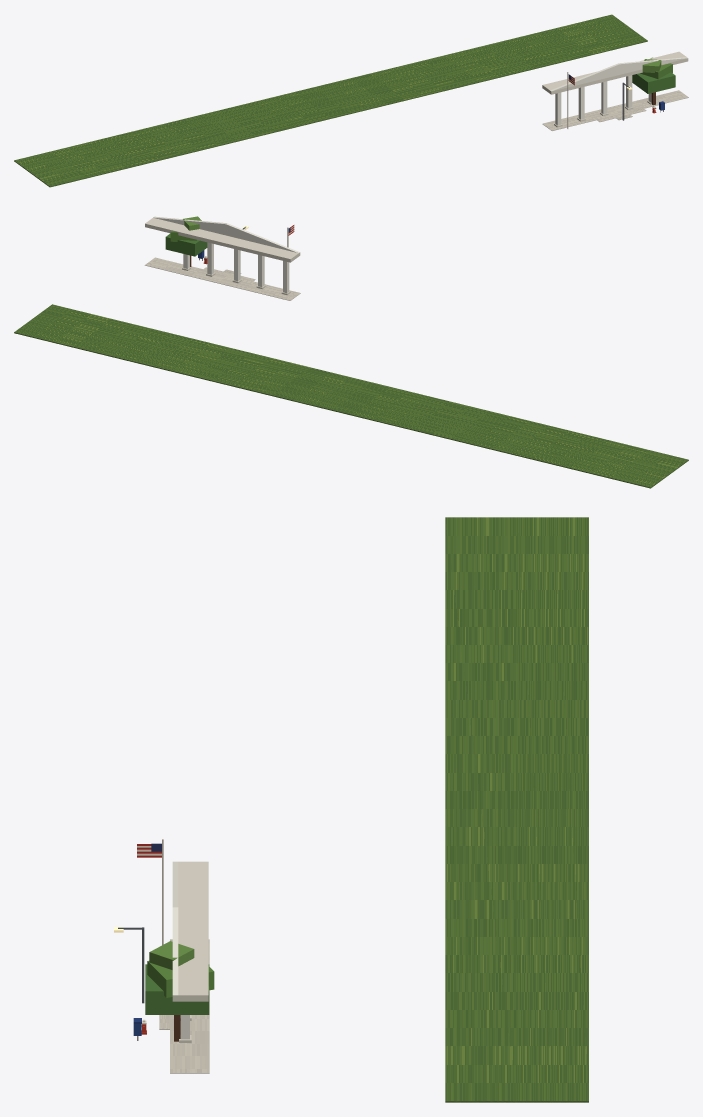
File: structure.glb
3 renders of one model, top to bottom at view 1: azimuth 30°, elevation 25°; view 2: azimuth 150°, elevation 25°; view 3: azimuth 270°, elevation 25°, orthographic. The views are drawn at different scales.
Parts seen in each view (by area): view 1: Box3, Box1, Box2, Box38, Structure, Box37, Box14; view 2: Box3, Box1, Box2, Box37, Box38, Structure, Box14; view 3: Box3, Box1, Box2, Box37, Box38, Box14, Structure.
Boxes of the visible parts, bbox=[...] form: Box3: bbox=[32, 27, 647, 187]; Box1: bbox=[14, 14, 620, 167]; Box2: bbox=[23, 21, 629, 173]; Box38: bbox=[542, 90, 688, 130]; Structure: bbox=[550, 57, 687, 91]; Box37: bbox=[542, 51, 688, 94]; Box14: bbox=[632, 72, 675, 93]; Box3: bbox=[33, 304, 688, 473]; Box1: bbox=[14, 325, 660, 488]; Box2: bbox=[24, 318, 669, 481]; Box37: bbox=[145, 218, 300, 262]; Box38: bbox=[144, 257, 300, 300]; Structure: bbox=[153, 216, 299, 253]; Box14: bbox=[165, 233, 207, 256]; Box3: bbox=[445, 517, 517, 1102]; Box1: bbox=[553, 517, 588, 1102]; Box2: bbox=[517, 517, 552, 1102]; Box37: bbox=[172, 861, 208, 1001]; Box38: bbox=[170, 939, 209, 1073]; Box14: bbox=[145, 964, 209, 1014]; Structure: bbox=[172, 861, 178, 995].
Size of the model in its own units: 76.88 by 7.13 by 26.44.
Materials: 20 (3 with a texture image).
